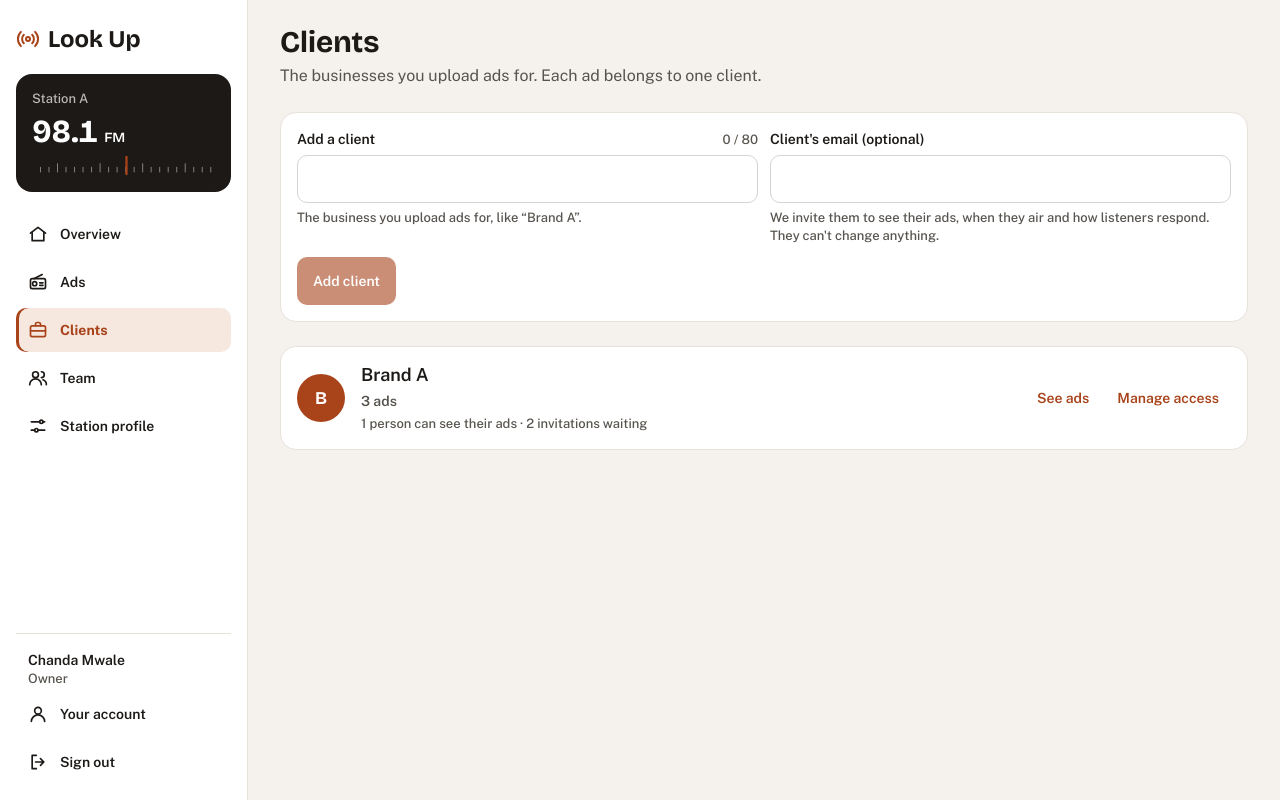
who can see a client’s ads (the station) › P5C-ONBOARDING-02: Remove access asks first, then removes; Keep access changes nothing
Click the button with aria-label "Manage who can see Brand A's ads". click: (1168,398)
box: [1105,376,1231,420]
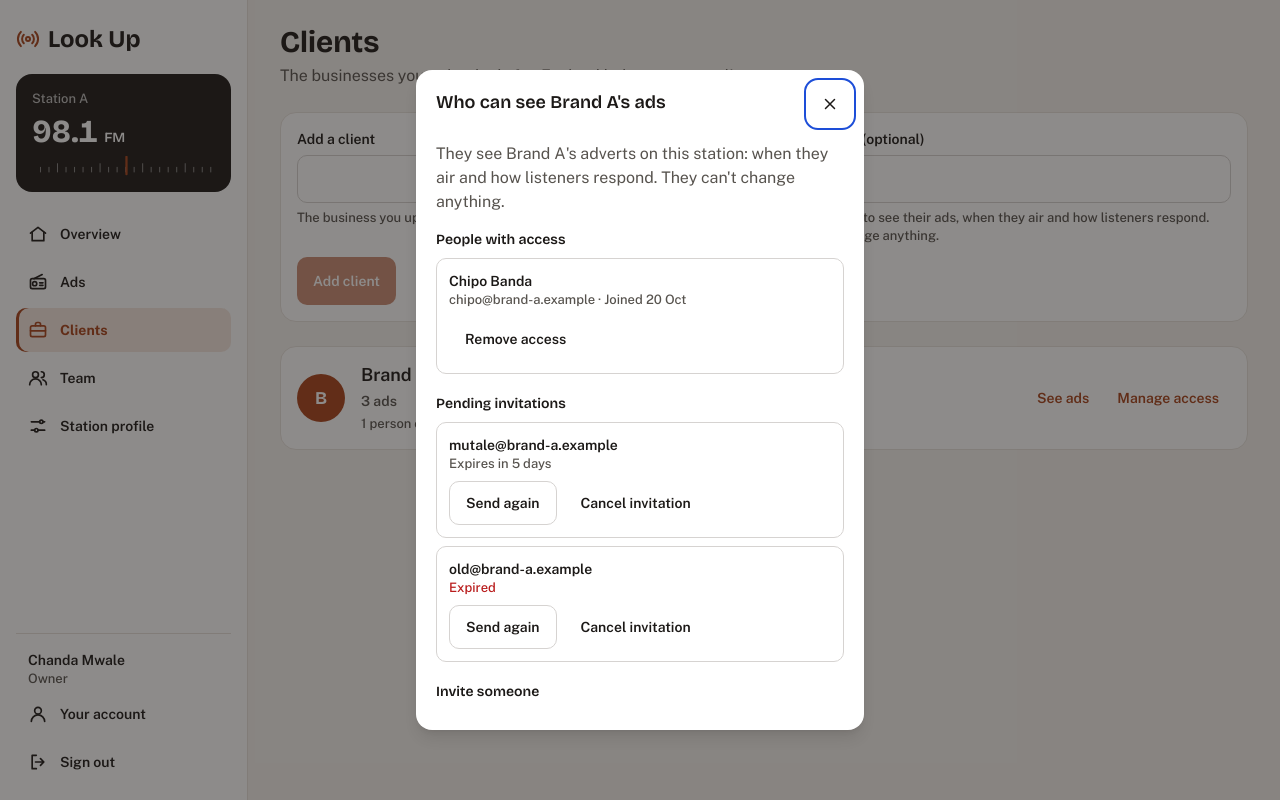
Click the button named "Remove access: Chipo Banda". click: (516,339)
box: [449,317,582,361]
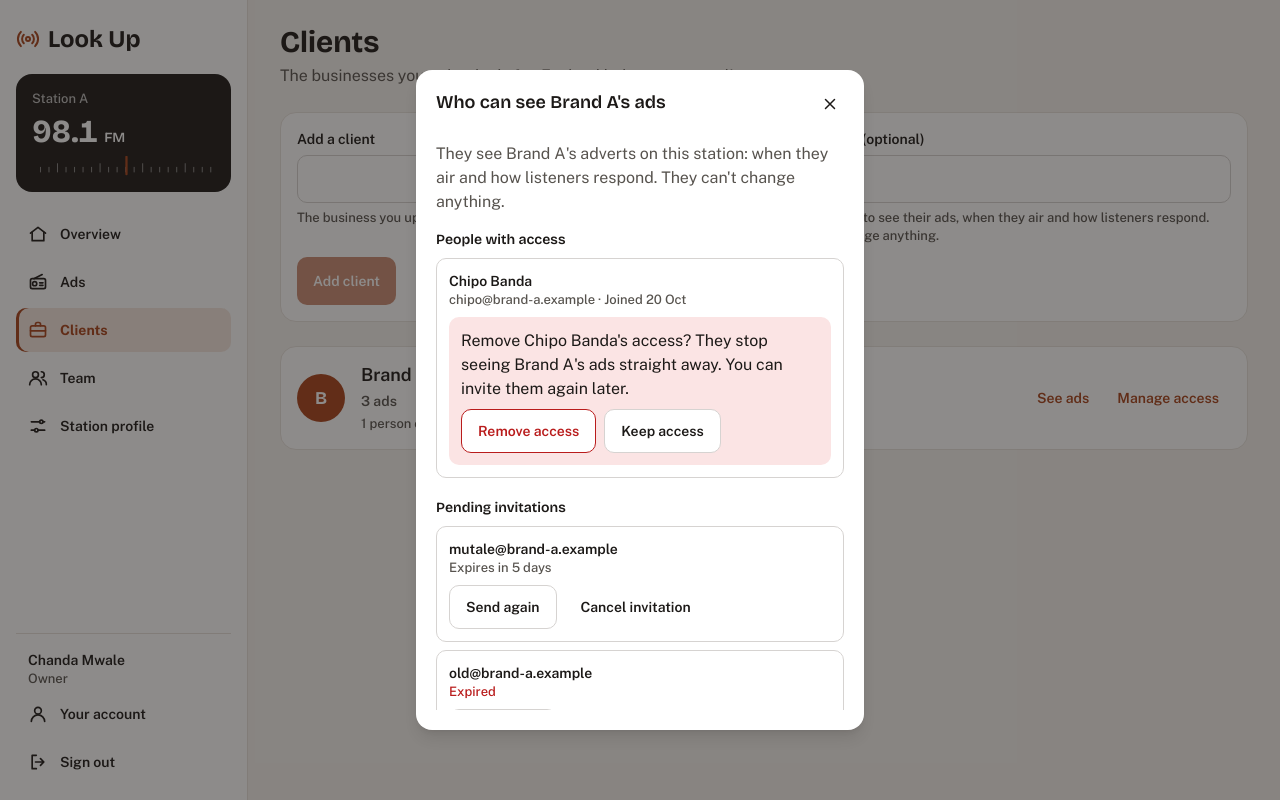
Click the button "Keep access". click: (662,431)
box: [604,409,721,453]
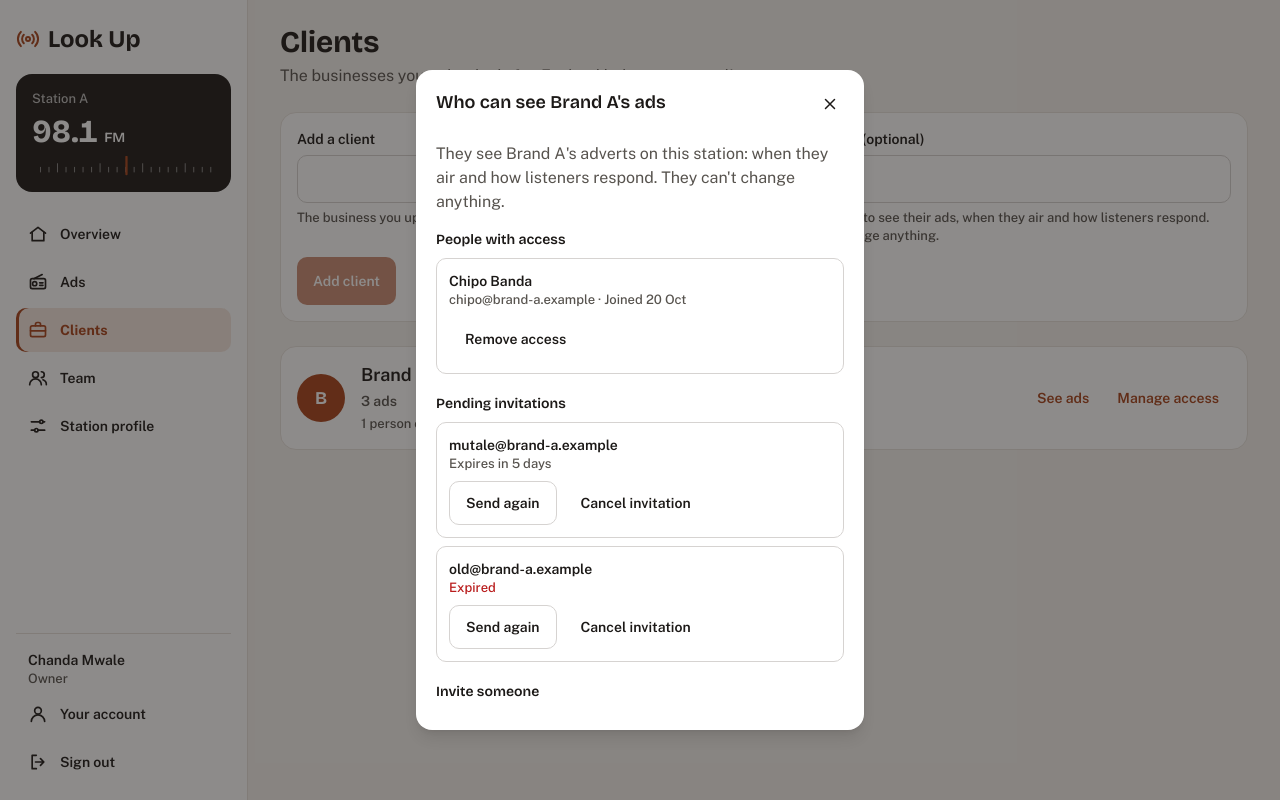
Click the button named "Remove access: Chipo Banda". click: (516,339)
box: [449,317,582,361]
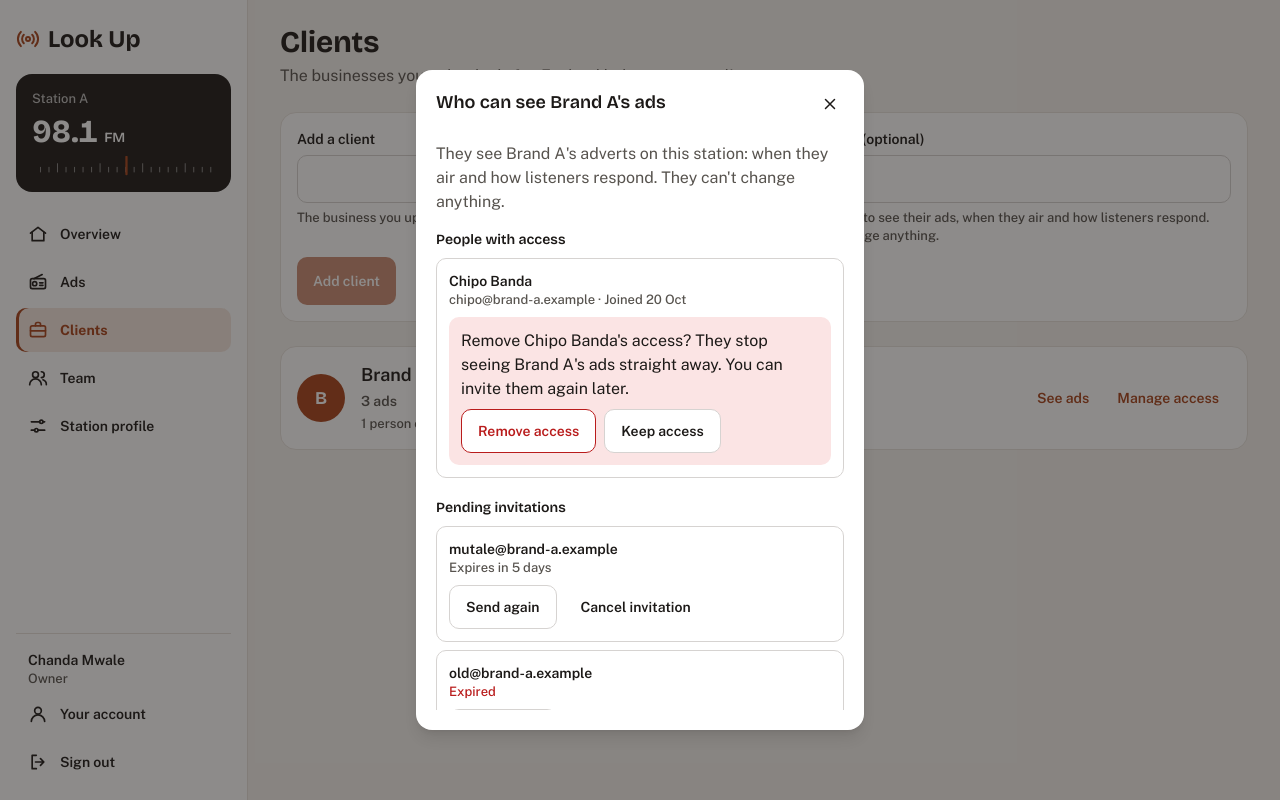
Click the button "Remove access". click: (529,431)
box: [461,409,596,453]
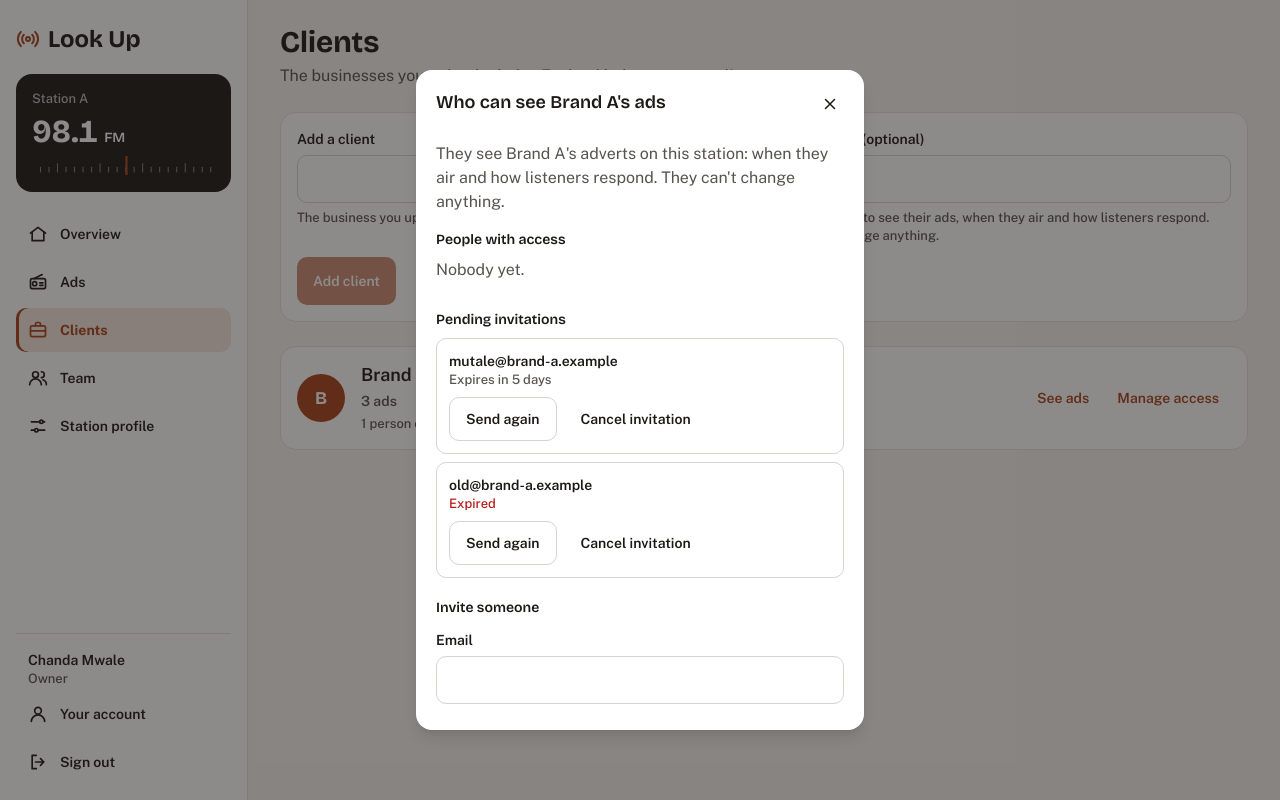
Expected: the text "Nobody yet." is shown, [436,260,524,279]
